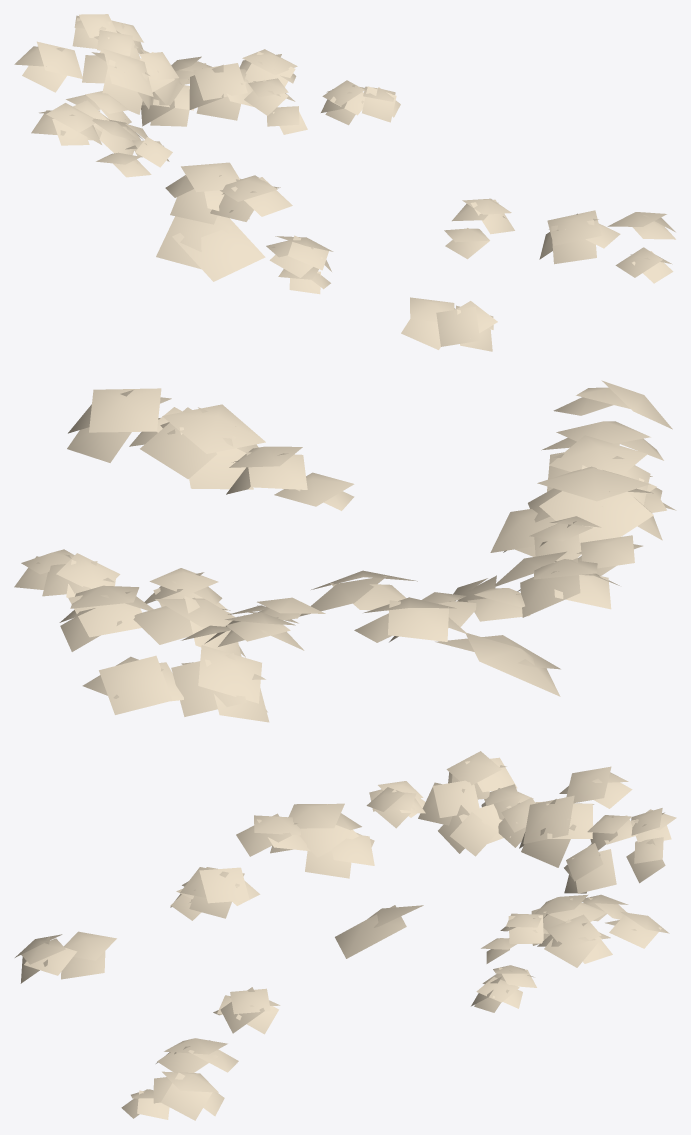
The picture shows the model from 3 angles, top to bottom: view 1: azimuth 30°, elevation 25°; view 2: azimuth 150°, elevation 25°; view 3: azimuth 270°, elevation 25°; orthographic projection. The views are drawn at different scales.
Parts seen in each view (by area): view 1: 002-0-2; view 2: 002-0-2; view 3: 002-0-2.
Boxes of the visible parts, left/top/right/bottom form: 002-0-2: left=14, top=14, right=675, bottom=351; 002-0-2: left=14, top=380, right=676, bottom=722; 002-0-2: left=15, top=751, right=676, bottom=1120.
Size of the model in its own units: 77.63 by 23.36 by 89.39.
